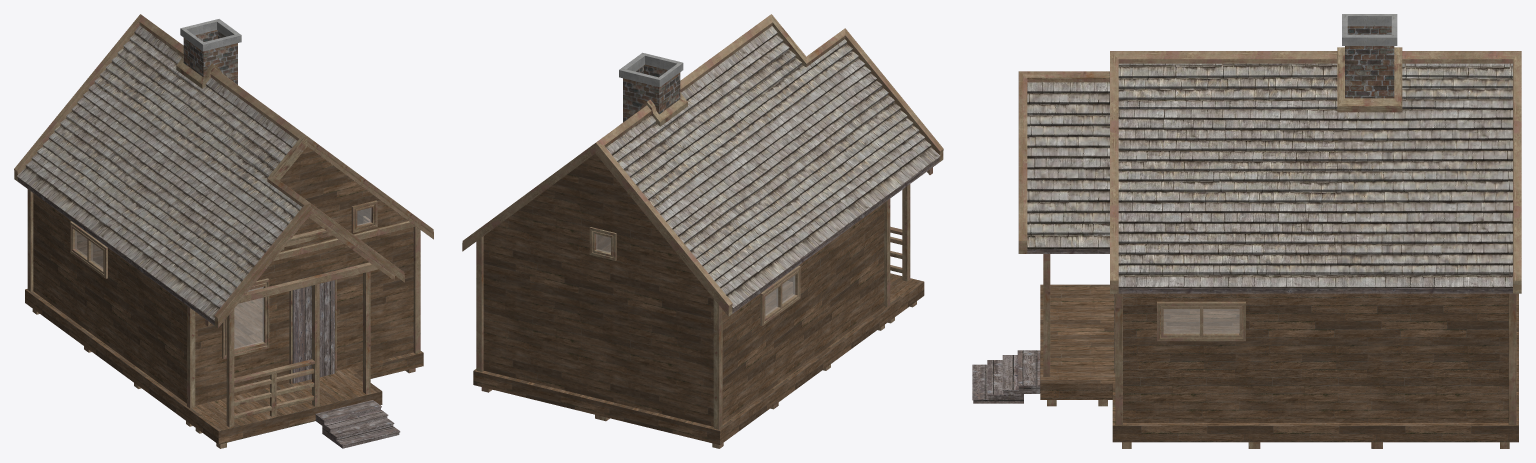
Rendered from house1.glb.
3 views of the same model, side by side, from view 1: azimuth 30°, elevation 25°; view 2: azimuth 150°, elevation 25°; view 3: azimuth 270°, elevation 25° (orthographic). The views are drawn at different scales.
Visible parts, largest first — view 1: building_001.011, building_001.009, building_001.008, building_001.010, Cube.004, Cube.012, building_001.012, building_001.013, Cube.028, building_001.007, Cube.007, Cube.011 (+3 smaller); view 2: building_001.011, building_001.009, building_001.008, Cube.004, building_001.012, building_001.010, building_001.007, Cube.028, Cube.007, Cube.006; view 3: building_001.009, building_001.011, building_001.008, building_001.012, building_001.013, building_001.007, Cube.004, Cube.028, Cube.020, Cube.013, building_001.010.
Boxes of the visible parts, <box> form: building_001.011: <box>25,146,423,444</box>; building_001.009: <box>17,25,302,320</box>; building_001.008: <box>14,14,433,327</box>; building_001.010: <box>205,214,394,427</box>; Cube.004: <box>27,189,420,408</box>; Cube.012: <box>292,280,334,383</box>; building_001.012: <box>180,19,241,84</box>; building_001.013: <box>315,400,400,448</box>; Cube.028: <box>75,208,371,348</box>; building_001.007: <box>18,177,214,325</box>; Cube.007: <box>71,226,104,274</box>; Cube.011: <box>225,282,266,355</box>; building_001.011: <box>473,153,924,444</box>; building_001.009: <box>606,26,940,308</box>; building_001.008: <box>462,14,943,316</box>; Cube.004: <box>476,199,890,429</box>; building_001.012: <box>619,52,683,122</box>; building_001.010: <box>890,167,932,281</box>; building_001.007: <box>732,157,939,313</box>; Cube.028: <box>596,234,794,315</box>; Cube.007: <box>764,270,798,321</box>; Cube.006: <box>760,265,800,326</box>; building_001.009: <box>1027,63,1512,287</box>; building_001.011: <box>1040,284,1518,442</box>; building_001.008: <box>1018,47,1521,293</box>; building_001.012: <box>1342,14,1397,98</box>; building_001.013: <box>972,350,1040,403</box>; building_001.007: <box>1027,249,1512,293</box>; Cube.004: <box>1115,293,1516,424</box>; Cube.028: <box>1164,309,1239,333</box>; Cube.020: <box>1157,301,1245,341</box>; Cube.013: <box>1161,306,1242,337</box>; building_001.010: <box>1043,254,1050,376</box>.
Size of the model in its own units: 8.4 by 9.2 by 12.69.
10 materials, 9 textured.
